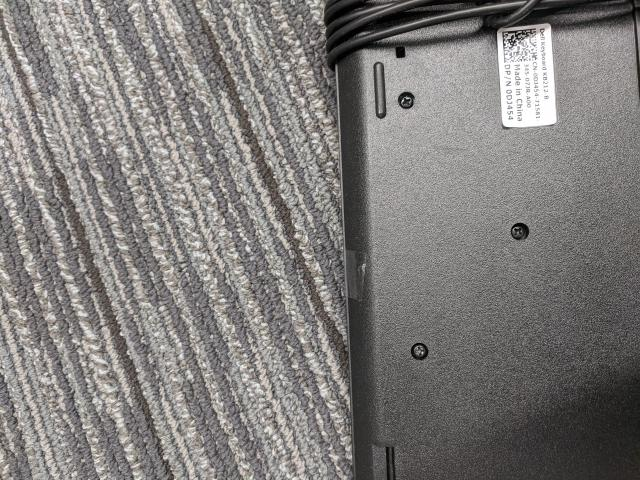CRS: (508, 223, 526, 239), (398, 92, 412, 108), (411, 343, 427, 357)
